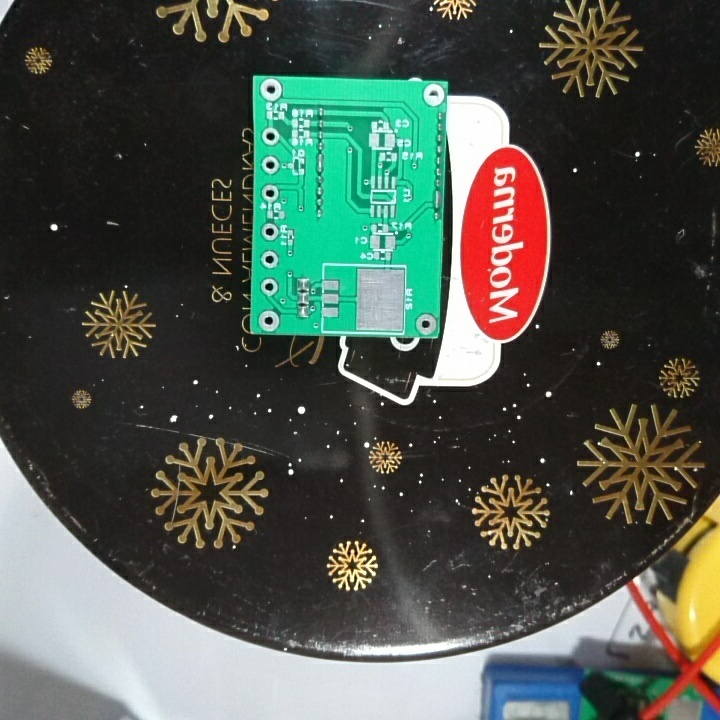F: (421, 83, 447, 109), (257, 76, 284, 101), (412, 310, 438, 335), (256, 309, 283, 332), (259, 247, 280, 272), (259, 180, 280, 203), (260, 154, 281, 176), (259, 221, 280, 243), (258, 277, 280, 297), (260, 125, 279, 147)
P: (313, 151, 328, 174), (430, 189, 444, 209)
